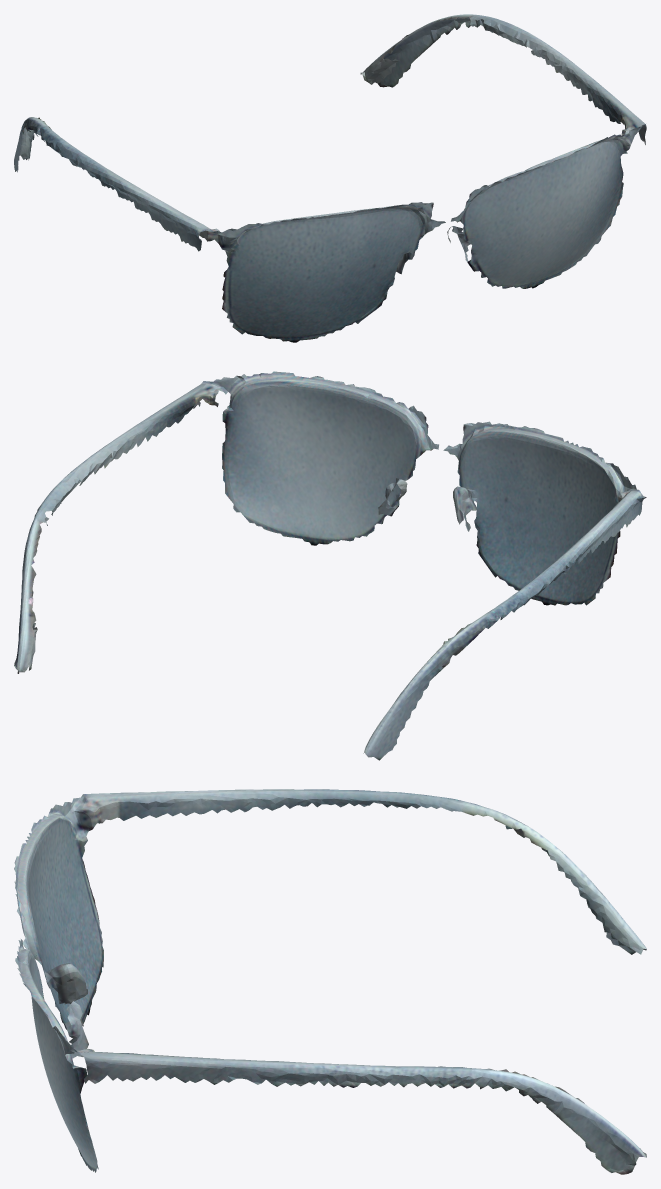
File: scan_align.obj
3 renders of one model, top to bottom at view 1: azimuth 30°, elevation 25°; view 2: azimuth 150°, elevation 25°; view 3: azimuth 270°, elevation 25°, orthographic. The views are drawn at different scales.
Bounding box in the file's own units: 0.1546 × 0.0464 × 0.1471.
1 material, 1 textured.
